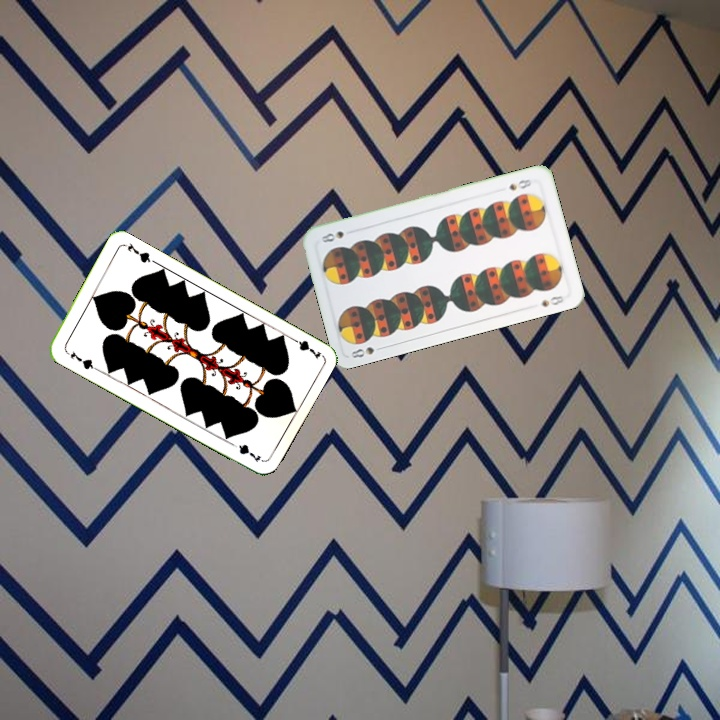G7: (286, 333, 324, 362), (62, 346, 99, 372)
S8: (347, 342, 387, 361), (505, 175, 534, 193)
